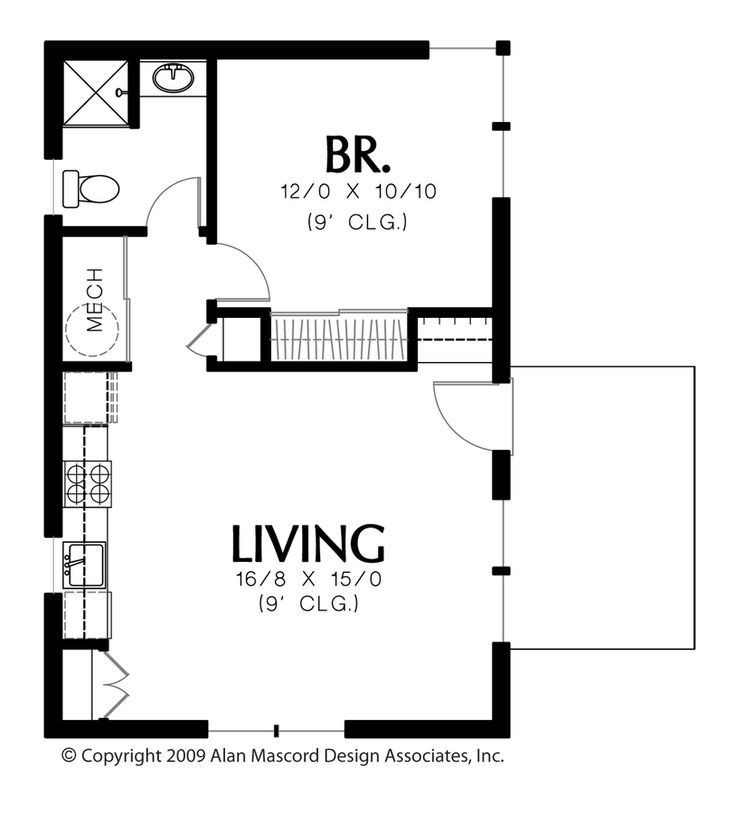door: (423, 377, 531, 448), (64, 646, 154, 723), (205, 237, 288, 309), (143, 167, 222, 235)
room: (44, 356, 527, 739), (212, 55, 522, 374), (39, 49, 221, 245)
wall: (34, 28, 430, 69), (38, 211, 74, 541), (197, 346, 421, 383), (484, 197, 522, 390), (38, 709, 212, 749), (341, 711, 521, 745), (201, 60, 233, 243), (30, 33, 72, 167), (39, 603, 72, 739), (485, 638, 523, 735), (57, 212, 146, 249), (407, 297, 510, 328), (62, 353, 136, 385), (202, 296, 270, 327), (402, 306, 427, 377), (62, 632, 113, 659), (488, 455, 520, 498)
window: (207, 720, 343, 746), (490, 51, 527, 124), (495, 130, 521, 209), (497, 508, 520, 578), (431, 39, 494, 64), (497, 583, 525, 634), (39, 167, 60, 214), (47, 545, 62, 591)
